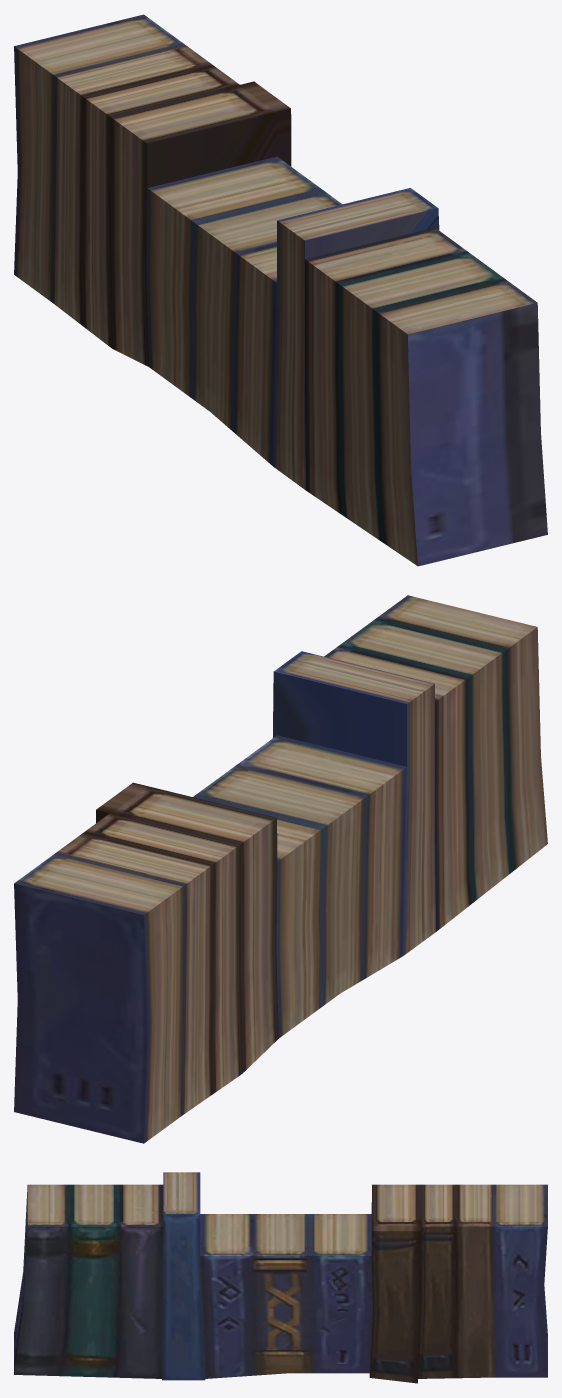
3 renders of one model, top to bottom at view 1: azimuth 30°, elevation 25°; view 2: azimuth 150°, elevation 25°; view 3: azimuth 270°, elevation 25°, orthographic. The views are drawn at different scales.
Size of the model in its own units: 0.3476 by 0.5748 by 1.69.
Materials: 1 (1 with a texture image).
